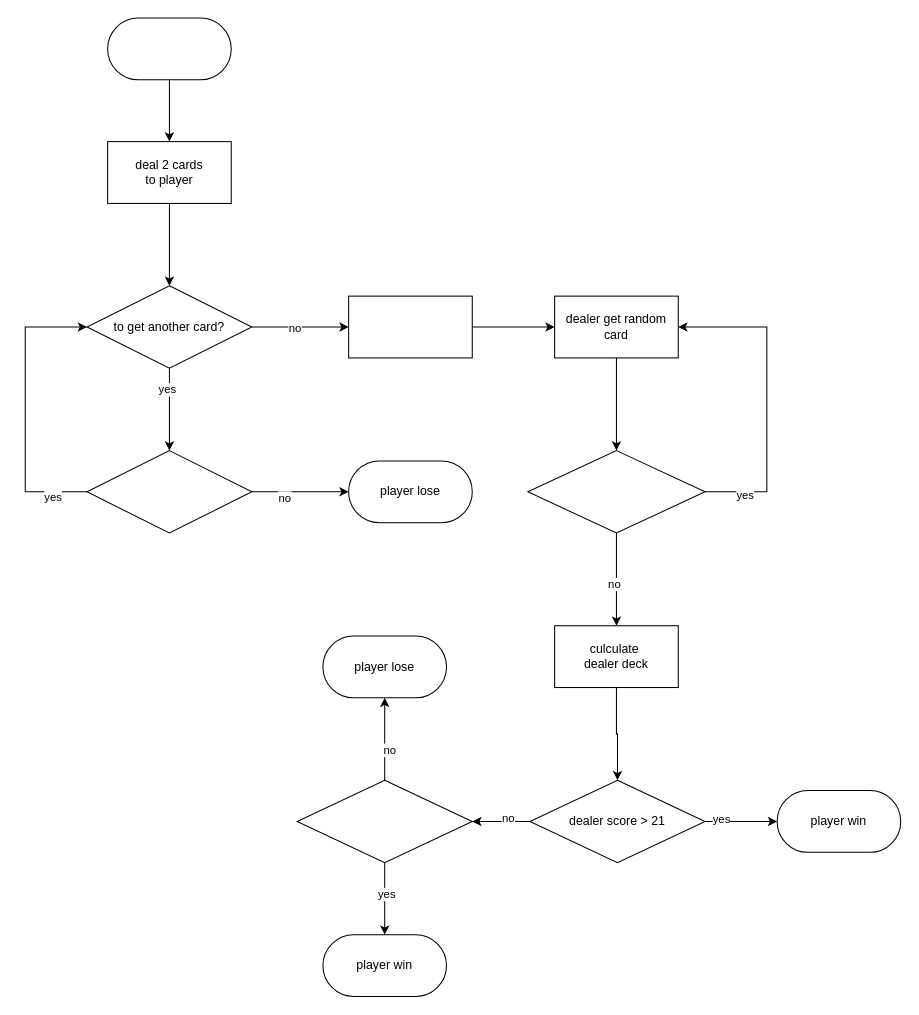
Some shapes in this 919 by 1015 pixel diagram are drawn without their labels. Each missing label, with the centre of its shape:
calculate player deck: [410,326]
dealer score <= 17: [616,491]
player score is closest to 21?: [384,821]
score < 21?: [169,491]
start: [169,48]
